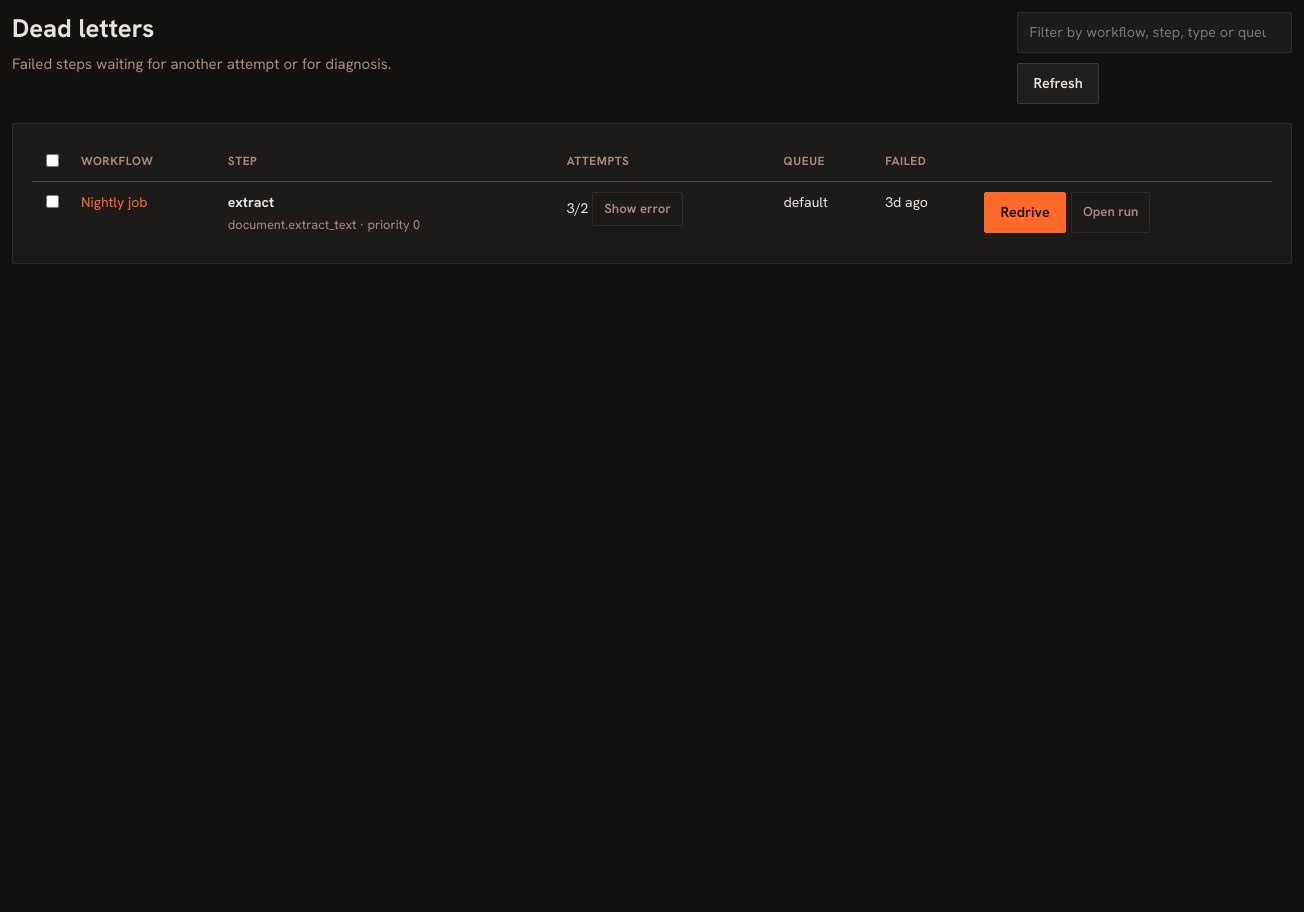
Test: DlqPage › reports already-scheduled redrives as a notice instead of an error
Click the button "Redrive": (1025,212) top-left (984, 192), bottom-right (1066, 233)
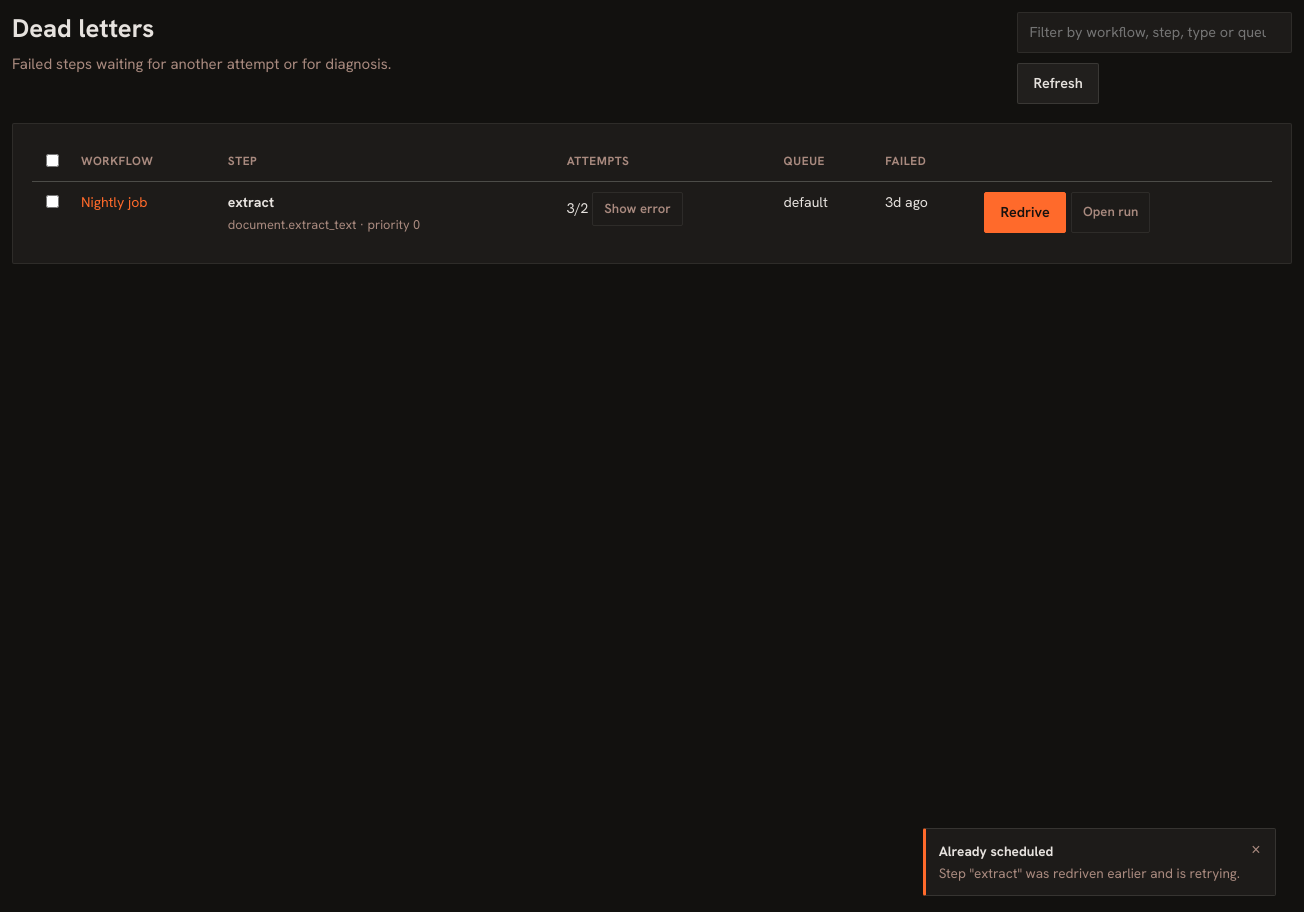
Expected: the message shows "Already", top-left (939, 842), bottom-right (1053, 860)
